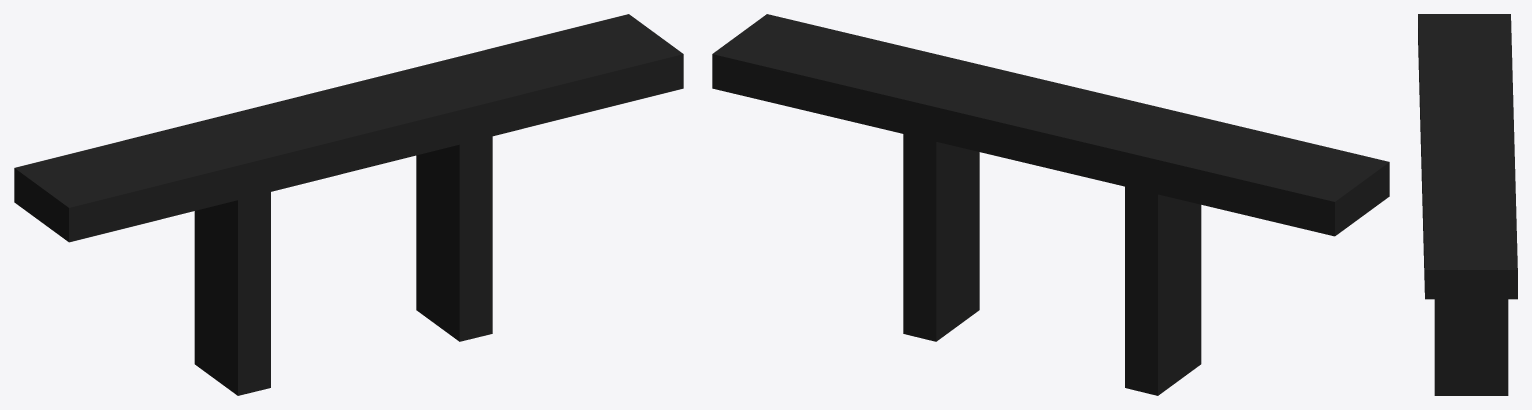
The model's file is spoiler1.glb.
3 views of the same model, side by side, from view 1: azimuth 30°, elevation 25°; view 2: azimuth 150°, elevation 25°; view 3: azimuth 270°, elevation 25° (orthographic). The views are drawn at different scales.
Parts seen in each view (by area): view 1: spoiler1; view 2: spoiler1; view 3: spoiler1.
Part boxes in pixels (bbox=[...]): spoiler1: bbox=[14, 14, 683, 395]; spoiler1: bbox=[712, 14, 1389, 395]; spoiler1: bbox=[1418, 14, 1517, 395].
Bounding box in the file's own units: 2.05 × 0.7563 × 0.3376.
Materials: 1 (1 with a texture image).
